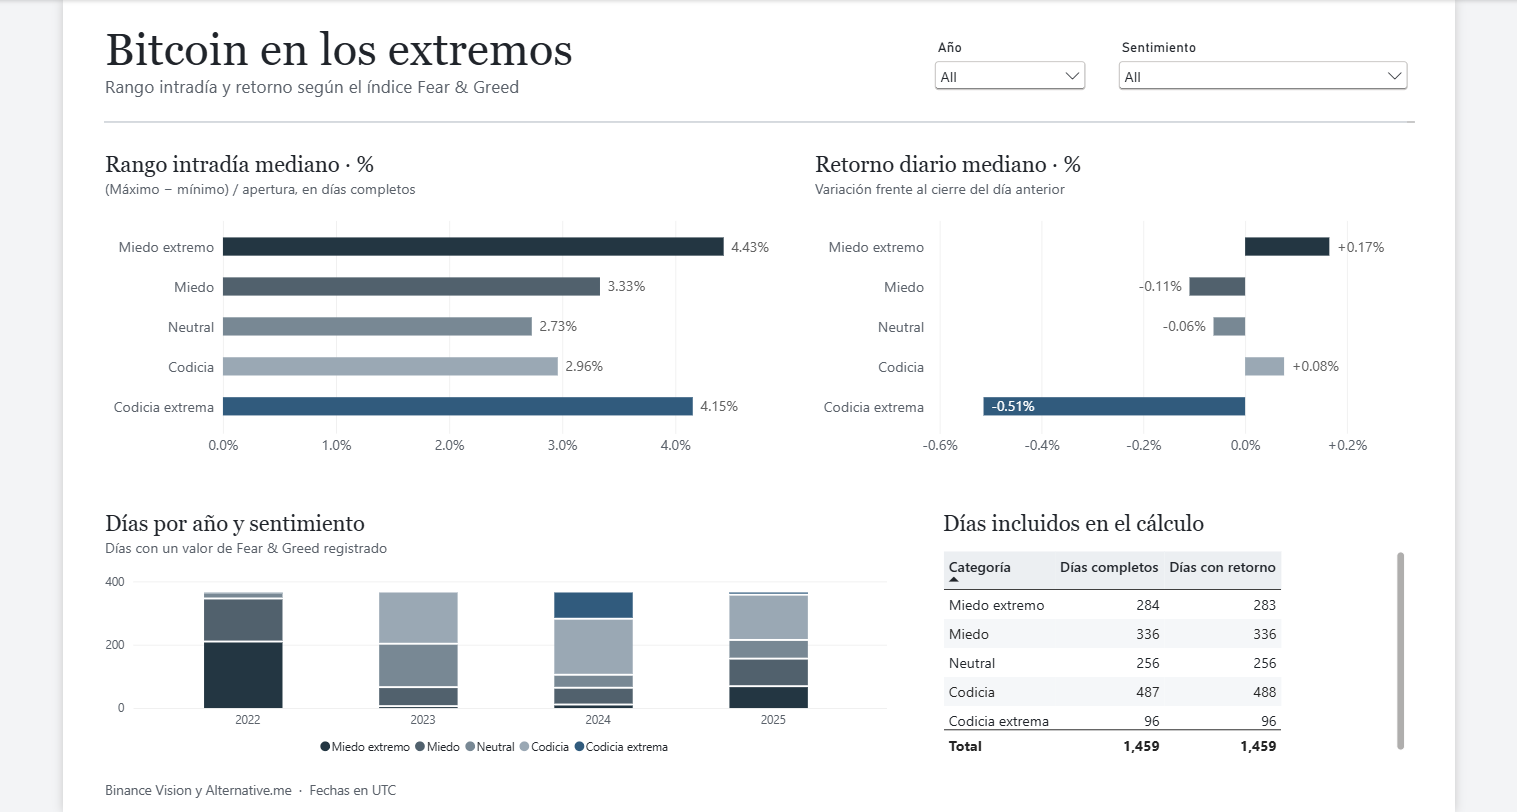

The dashboard page shown, as its layout file describes it:
{"tool":"powerbi","page":{"name":"Sentimiento","canvas":[1440,840],"ordinal":1},"visuals":[{"type":"textbox","box":[43,24,803,101],"z":11000},{"type":"clusteredBarChart","title":"Rango intradía mediano · %","fields":{"Category":["sentiment_summary.Sentiment Label"],"Y":["sentiment_summary.Median Range"]},"box":[43,152,713,328],"z":13000},{"type":"clusteredBarChart","title":"Retorno diario mediano · %","fields":{"Category":["sentiment_summary.Sentiment Label"],"Y":["sentiment_summary.Median Return"]},"box":[778,152,620,328],"z":14000},{"type":"columnChart","title":"Días por año y sentimiento","fields":{"Category":["bitcoin_daily_metrics.Market Year"],"Series":["sentiment_summary.Sentiment Label"],"Y":["bitcoin_daily_metrics.Classified Days"]},"box":[43,523,819,266],"z":15000},{"type":"tableEx","title":"Días incluidos en el cálculo","fields":{"Values":["sentiment_summary.Sentiment Label","sentiment_summary.Range Sample","sentiment_summary.Return Sample"]},"box":[910,523,488,266],"z":16000},{"type":"textbox","box":[43,807,1355,22],"z":18000},{"type":"slicer","fields":{"Values":["bitcoin_daily_metrics.Market Year"]},"box":[895,38,170,74],"z":23000},{"type":"slicer","fields":{"Values":["sentiment_summary.Sentiment Label"]},"box":[1085,38,313,74],"z":24000},{"type":"textbox","box":[42,125,1356,2],"z":25000}]}

Visuals, with their boxes on the page's 1440x840 design canvas (x1, y1, x2, y2). These are canvas units, not pixel positions in the 1517x812 screenshot, which may show the page scaled, cropped or inside an application window:
textbox: rect(43, 24, 846, 125)
"Rango intradía mediano · %" clusteredBarChart: rect(43, 152, 756, 480)
"Retorno diario mediano · %" clusteredBarChart: rect(778, 152, 1398, 480)
"Días por año y sentimiento" columnChart: rect(43, 523, 862, 789)
"Días incluidos en el cálculo" tableEx: rect(910, 523, 1398, 789)
textbox: rect(43, 807, 1398, 829)
slicer - bitcoin_daily_metrics.Market Year: rect(895, 38, 1065, 112)
slicer - sentiment_summary.Sentiment Label: rect(1085, 38, 1398, 112)
textbox: rect(42, 125, 1398, 127)
